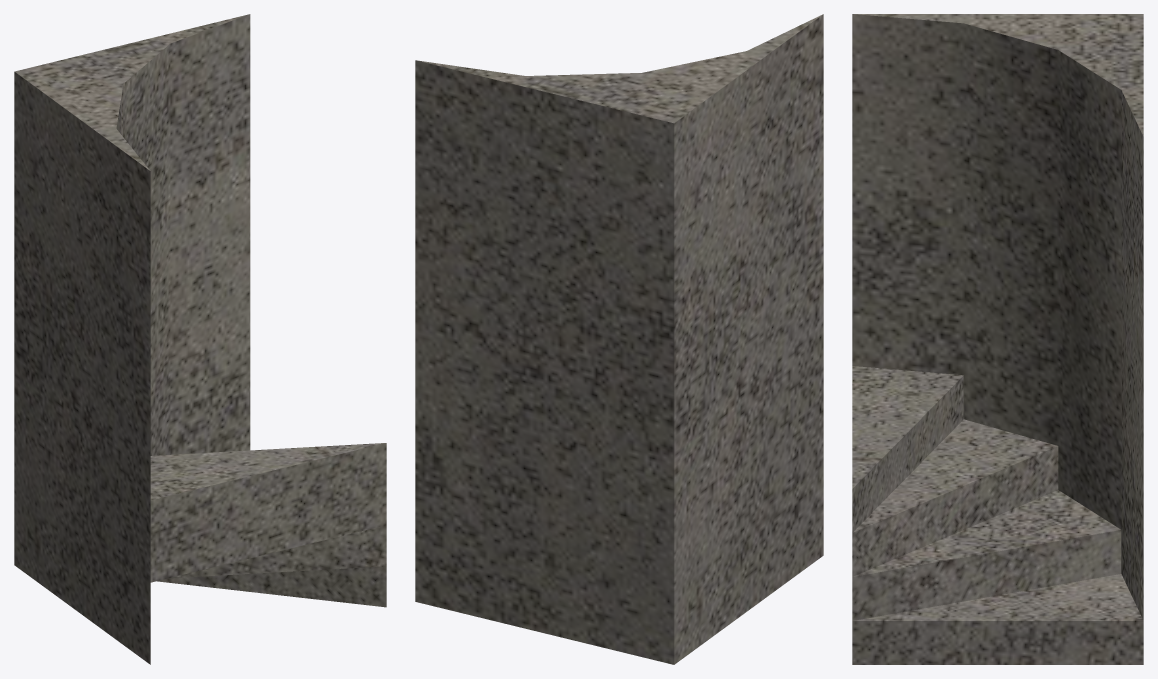
The model's file is WF_SpiralStairsR1mA.obj.
The picture shows the model from 3 angles, left to right: view 1: azimuth 30°, elevation 25°; view 2: azimuth 150°, elevation 25°; view 3: azimuth 270°, elevation 25°; orthographic projection. The views are drawn at different scales.
Parts seen in each view (by area): view 1: object 2, unnamed_object1; view 2: object 2; view 3: object 2, unnamed_object1.
Part boxes in pixels (<box>): object 2: <box>14,14,250,664</box>; unnamed_object1: <box>150,443,386,607</box>; object 2: <box>415,14,823,664</box>; object 2: <box>852,14,1143,620</box>; unnamed_object1: <box>852,366,1143,664</box>.
Size of the model in its own units: 1 by 2 by 1.
1 material, 1 textured.
